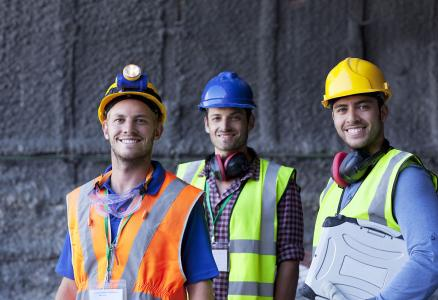hard-hat: (97, 64, 166, 126), (321, 55, 391, 109), (197, 70, 257, 110)
person: (52, 62, 220, 300), (298, 55, 438, 299), (174, 70, 305, 299)
vest: (53, 160, 219, 300), (300, 145, 437, 300), (174, 151, 305, 299)
